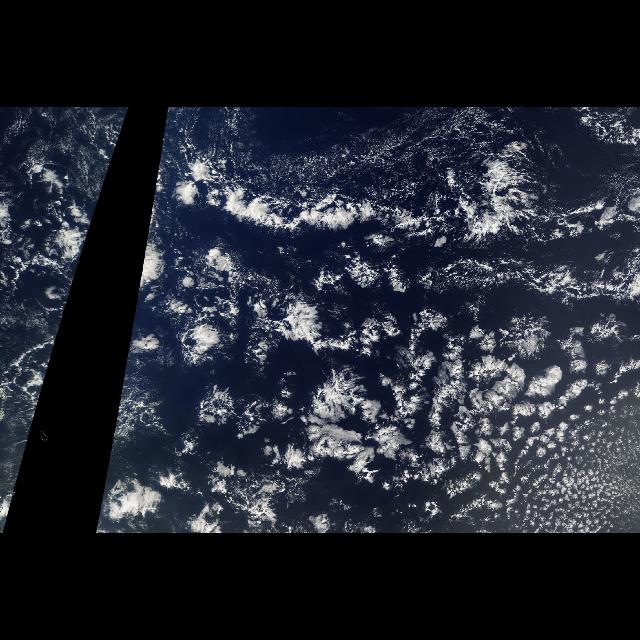Fish: (171, 128, 639, 254)
Flower: (104, 242, 636, 534)
Sugar: (234, 108, 473, 192)
